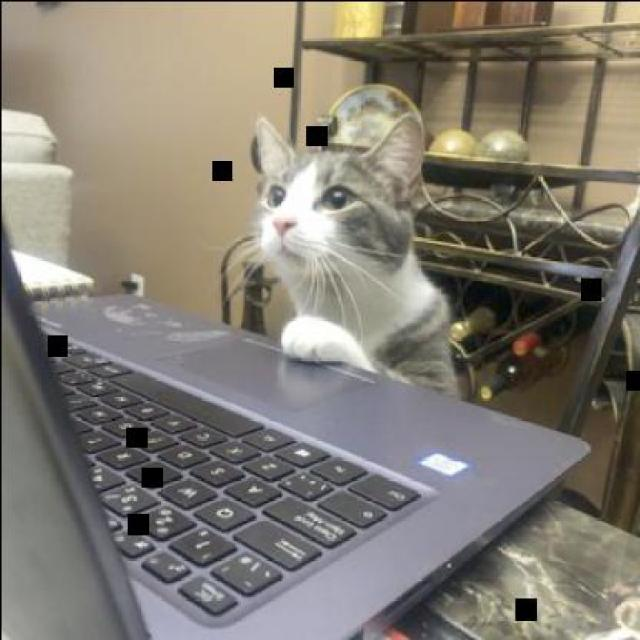unauthorized: (222, 108, 460, 398)
